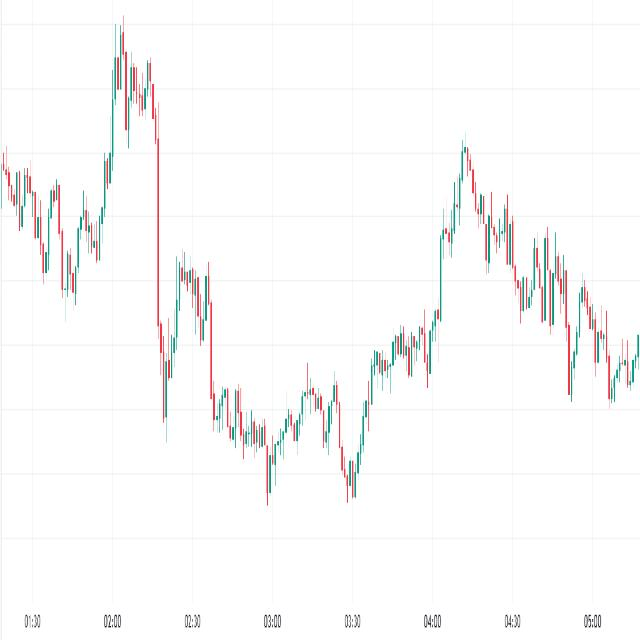Head-Shoulders: (436, 122, 521, 316)
